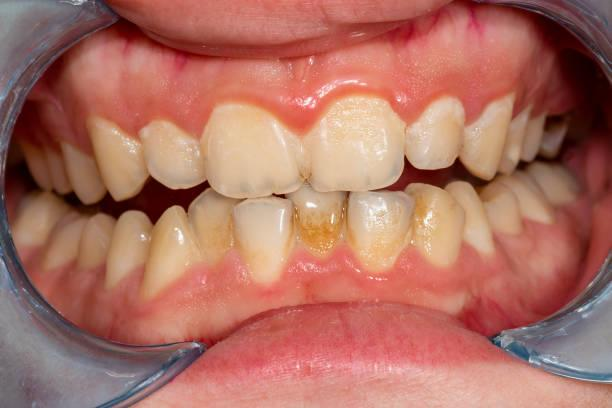Calculus: (347, 184, 418, 268), (397, 174, 464, 263), (288, 190, 359, 262), (137, 213, 193, 284), (189, 191, 242, 261)
